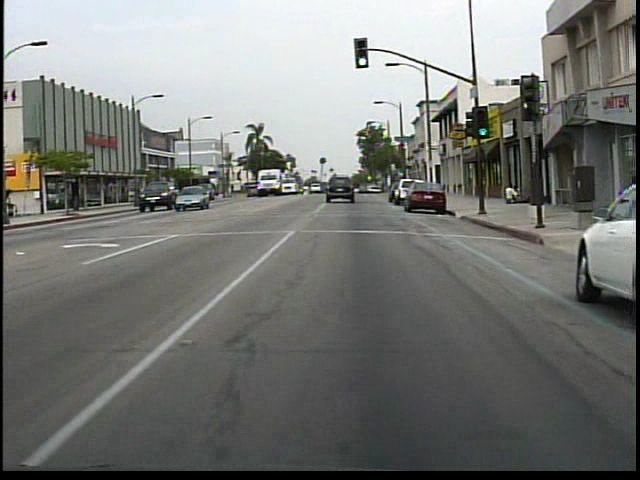person: (499, 181, 516, 206)
